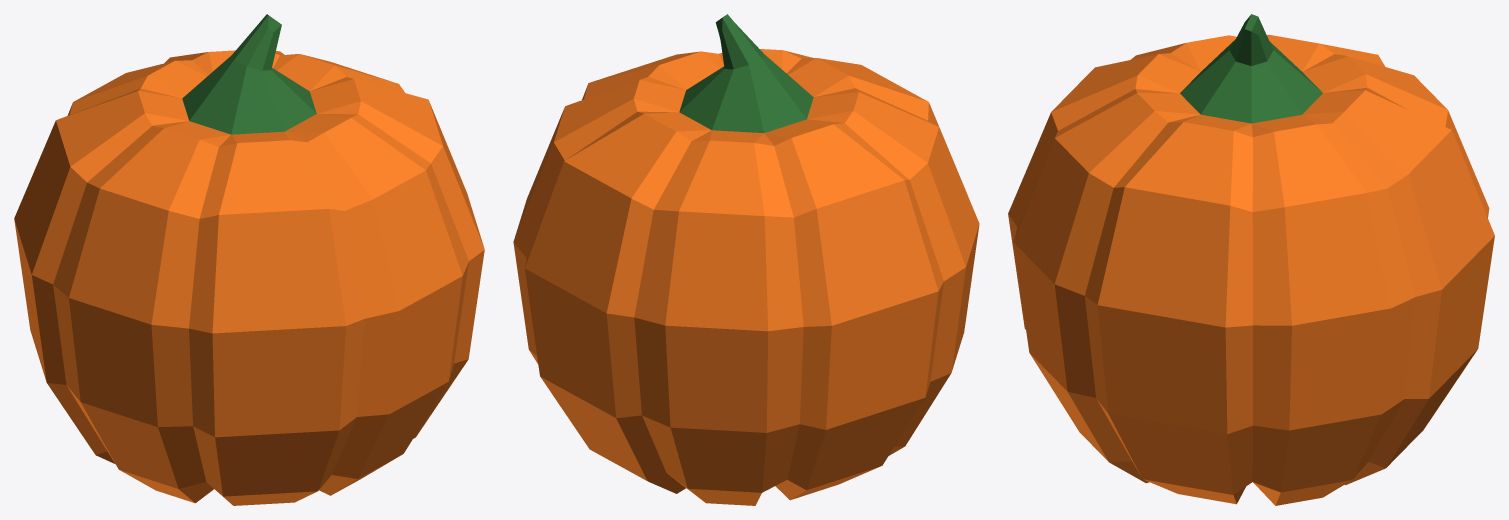
Rendered from nature_pumkin.fbx.
3 renders of one model, left to right at view 1: azimuth 30°, elevation 25°; view 2: azimuth 150°, elevation 25°; view 3: azimuth 270°, elevation 25°, orthographic. The views are drawn at different scales.
Parts seen in each view (by area): view 1: nature_pumkin; view 2: nature_pumkin; view 3: nature_pumkin.
Boxes of the visible parts, left/top/right/bottom form: nature_pumkin: left=14, top=14, right=484, bottom=505; nature_pumkin: left=513, top=14, right=979, bottom=505; nature_pumkin: left=1008, top=14, right=1494, bottom=505.
Bounding box in the file's own units: 196 × 200 × 196.
